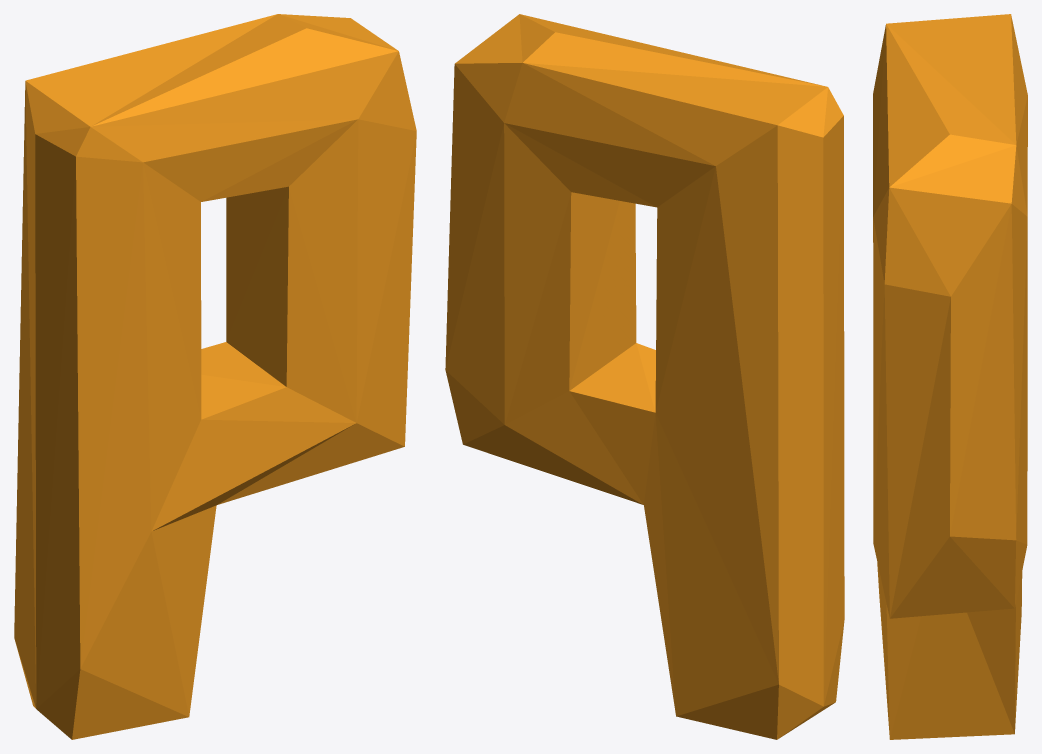
File: SM_Icon_Letter_P_01.fbx
3 views of the same model, side by side, from view 1: azimuth 30°, elevation 25°; view 2: azimuth 150°, elevation 25°; view 3: azimuth 270°, elevation 25° (orthographic). The views are drawn at different scales.
Visible parts, largest first — view 1: SM_Icon_Letter_P_01; view 2: SM_Icon_Letter_P_01; view 3: SM_Icon_Letter_P_01.
Boxes of the visible parts, box(x1,y1,x2,y2) form: SM_Icon_Letter_P_01: box(14, 14, 416, 739); SM_Icon_Letter_P_01: box(445, 14, 844, 739); SM_Icon_Letter_P_01: box(873, 14, 1027, 739).
Bounding box in the file's own units: 32.99 × 55.44 × 11.38.
